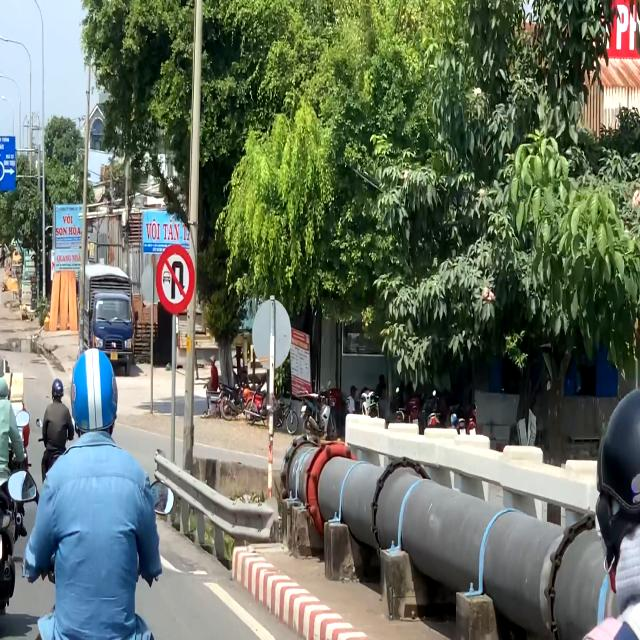P.124b: (156, 236, 194, 324)
